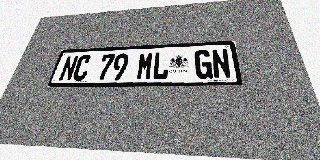7: (96, 54, 115, 81)
9: (110, 53, 129, 80)
C: (71, 55, 92, 81)
G: (194, 49, 213, 79)
L: (152, 51, 169, 80)
M: (136, 52, 154, 80)
N: (211, 49, 232, 79), (58, 55, 79, 81)
